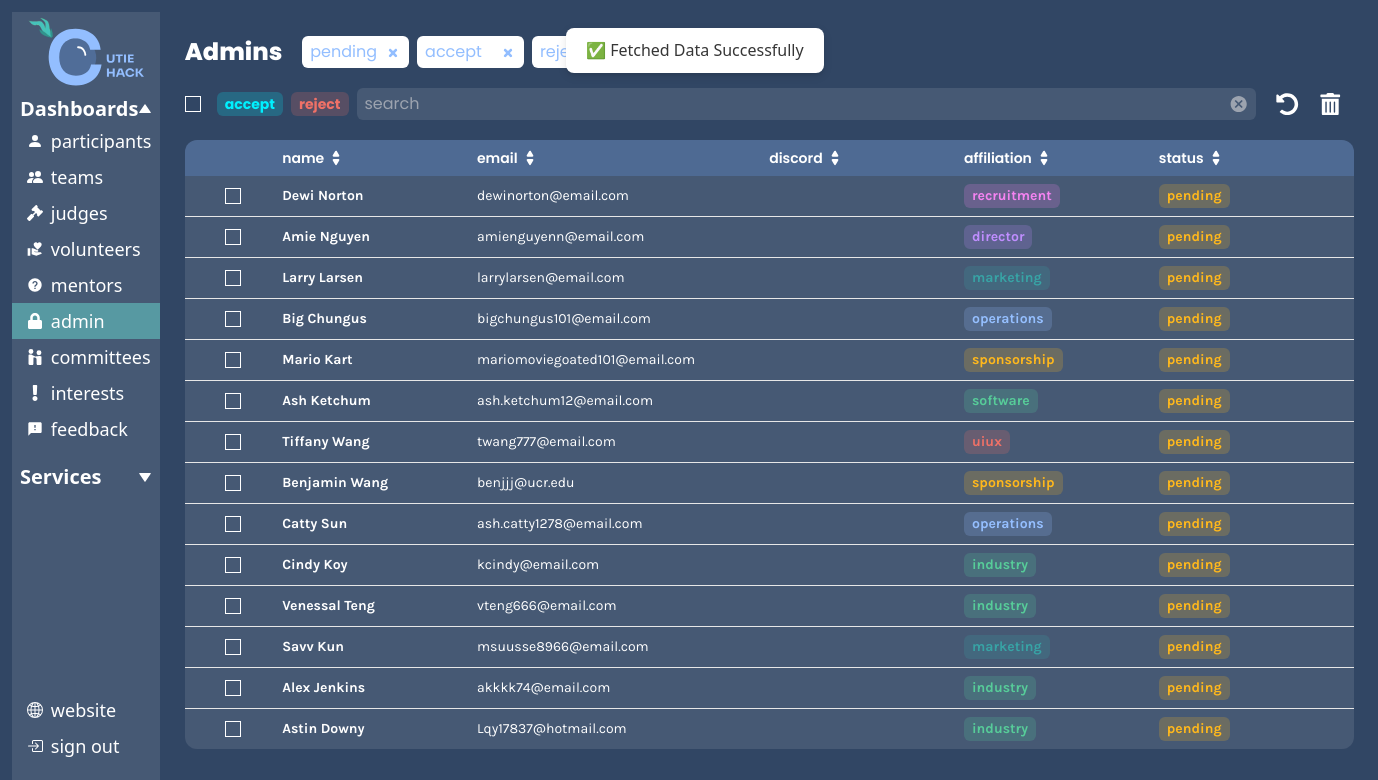
Scenario: Admin Sort › Sort Name Up
The image size is (1378, 780).
Click the icon with test id "name-sort-up".
click(336, 154)  # box [332,150,340,158]
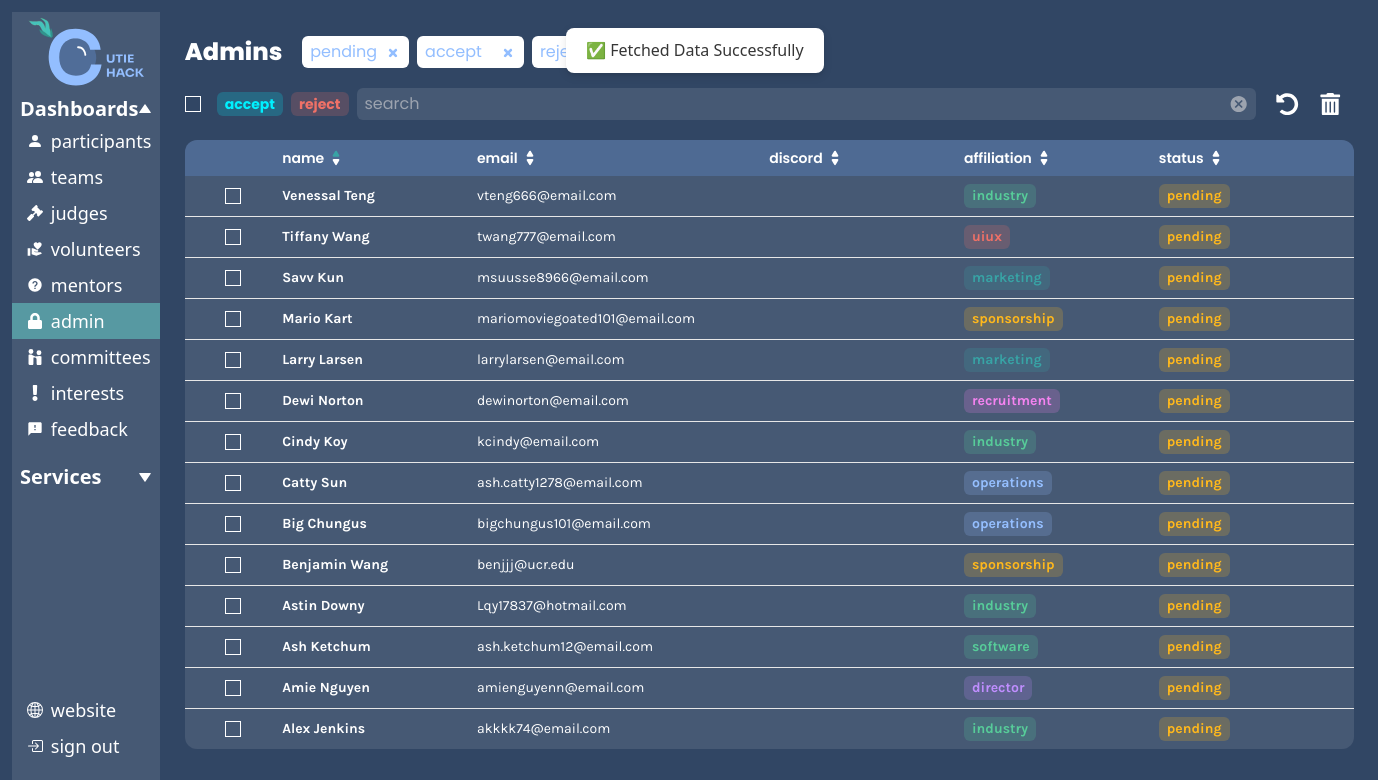
Now the text with test id "name" reads "Venessal Teng", box [282,186,375,206]
Now the text with test id "name" reads "Tiffany Wang", box [282,227,370,247]
Now the text with test id "name" reads "Savv Kun", box [282,268,344,288]
